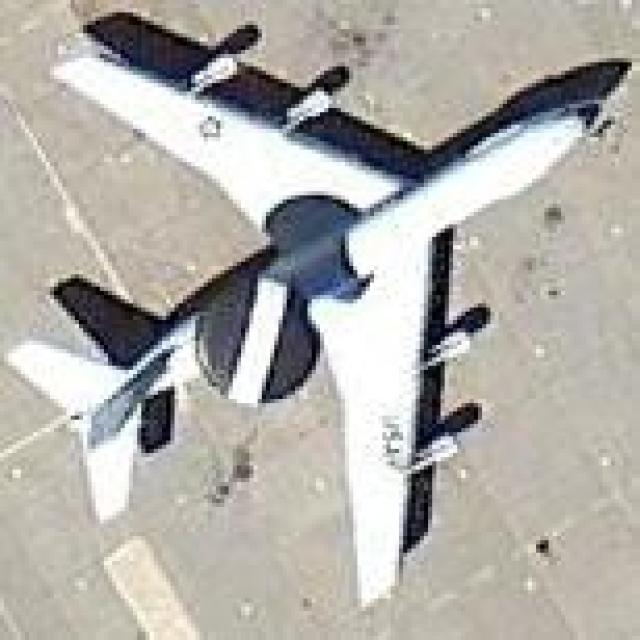E-3_TopDown: (4, 4, 632, 607)
